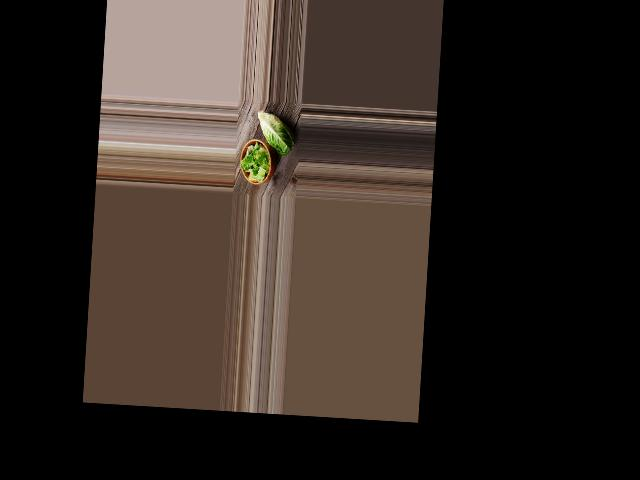lettuce: (255, 111, 297, 155)
